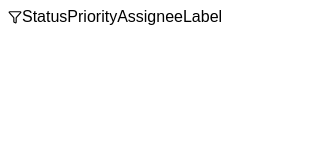
Test: FilterBar › opens label dropdown and shows labels
Click the button with aria-label "Filter by Label" at [203, 17], box [183,8,222,26]
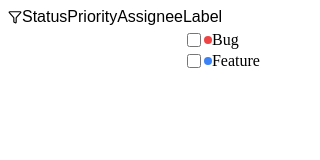
Now the text "Bug" is shown, box [212,31,239,49]
Now the text "Feature" is shown, box [212,52,260,70]
